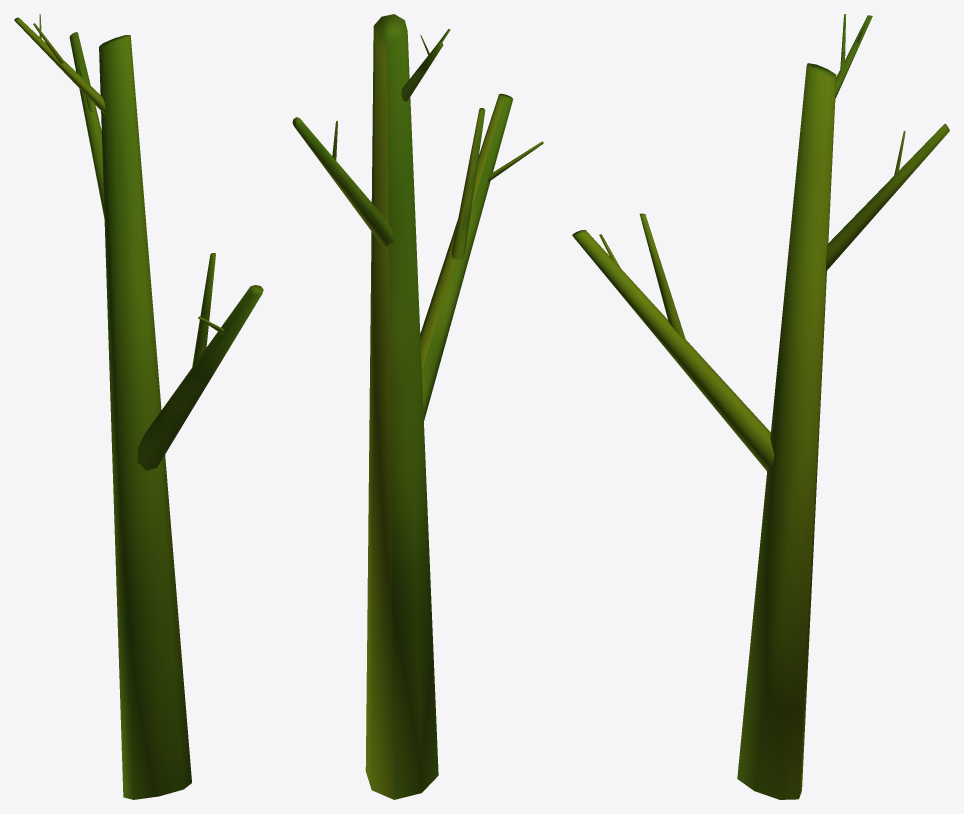
Rendered from main stem.fbx.
The picture shows the model from 3 angles, left to right: view 1: azimuth 30°, elevation 25°; view 2: azimuth 150°, elevation 25°; view 3: azimuth 270°, elevation 25°; orthographic projection. The views are drawn at different scales.
Parts seen in each view (by area): view 1: Stem; view 2: Stem; view 3: Stem.
Boxes of the visible parts, left/top/right/bottom form: Stem: left=14, top=14, right=263, bottom=799; Stem: left=292, top=14, right=543, bottom=799; Stem: left=572, top=14, right=949, bottom=799.
Size of the model in its own units: 35.53 by 217 by 100.
Materials: 1 (1 with a texture image).
